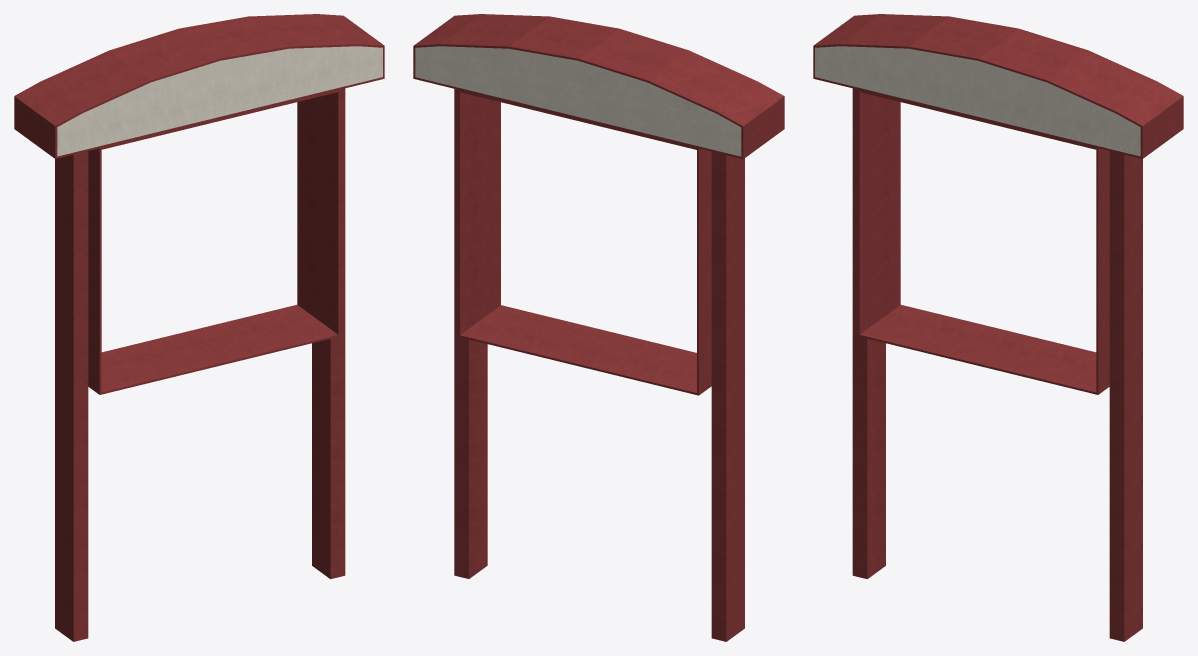
Rendered from sign-regular.gltf.
3 renders of one model, left to right at view 1: azimuth 30°, elevation 25°; view 2: azimuth 150°, elevation 25°; view 3: azimuth 330°, elevation 25°, orthographic.
Parts seen in each view (by area): view 1: sign, frame-regular; view 2: sign, frame-regular; view 3: sign, frame-regular.
Boxes of the visible parts, bbox=[...] form: sign: bbox=[14, 14, 384, 641]; frame-regular: bbox=[88, 89, 340, 394]; sign: bbox=[413, 14, 784, 641]; frame-regular: bbox=[458, 89, 711, 395]; sign: bbox=[813, 14, 1183, 641]; frame-regular: bbox=[857, 89, 1109, 394].
Bounding box in the file's own units: 1.24 × 2 × 0.2673.
Materials: 3 (3 with a texture image).
